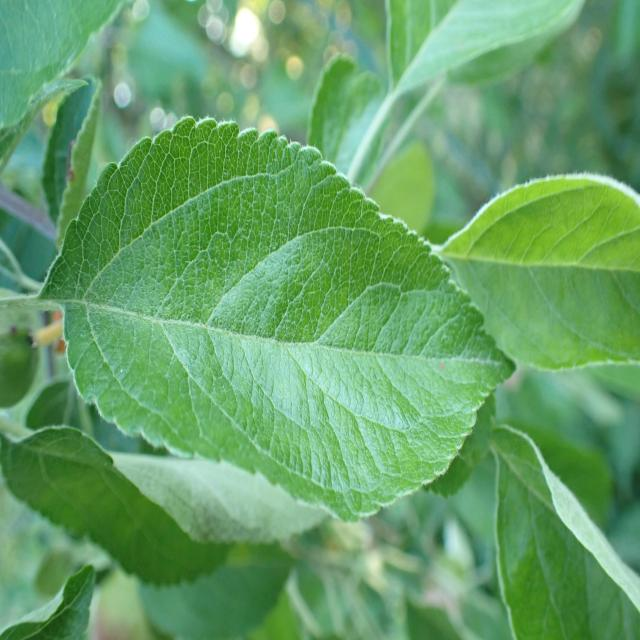healthy: (40, 115, 518, 525), (432, 172, 640, 372), (1, 423, 230, 588), (489, 424, 640, 640), (0, 0, 127, 129), (308, 52, 387, 181)
